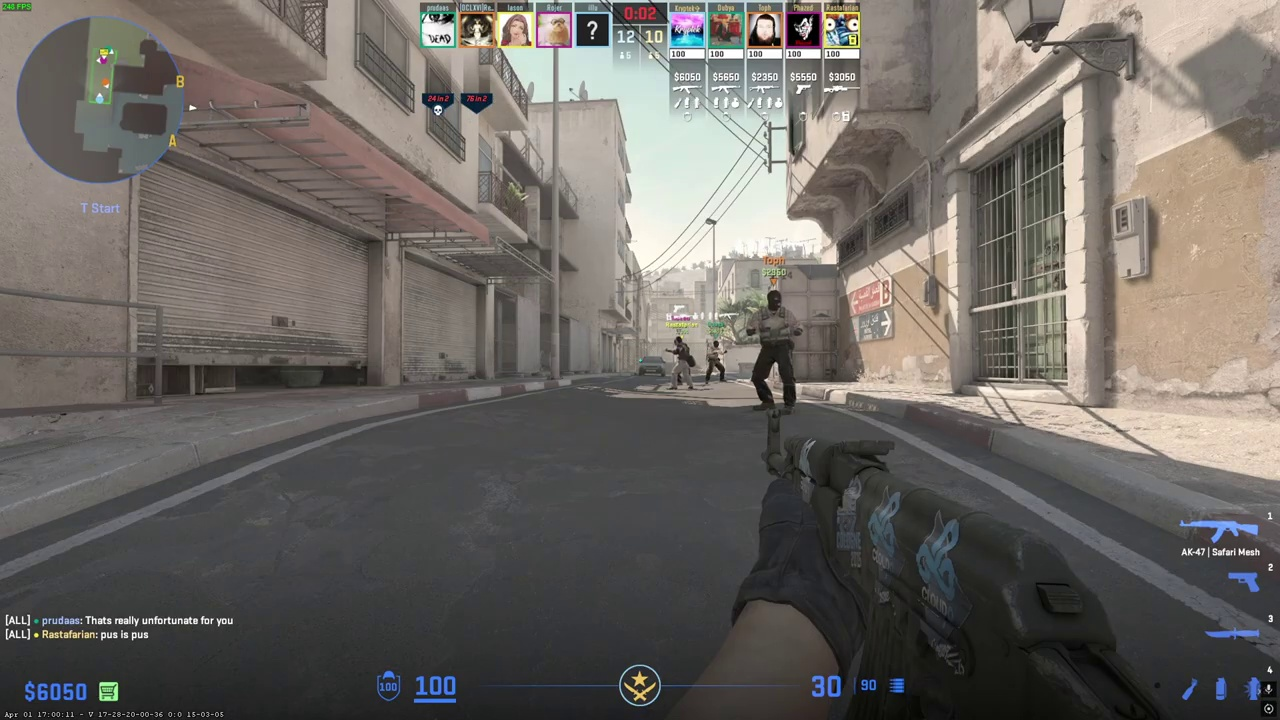Terrorist: (751, 290, 799, 415), (670, 337, 694, 390), (705, 340, 727, 384)
